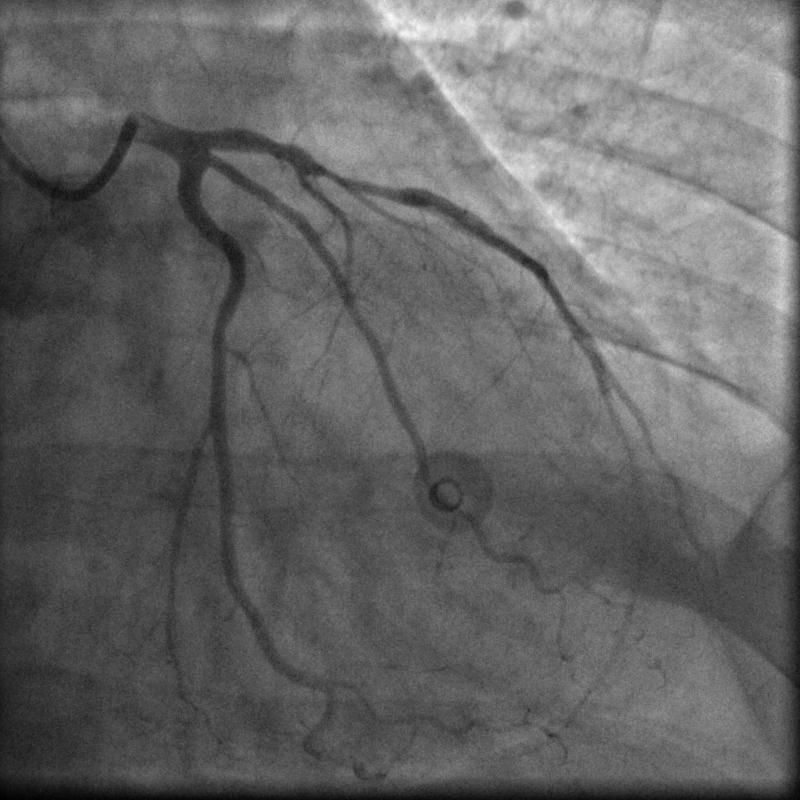Stenosis: (317, 154, 408, 208)
